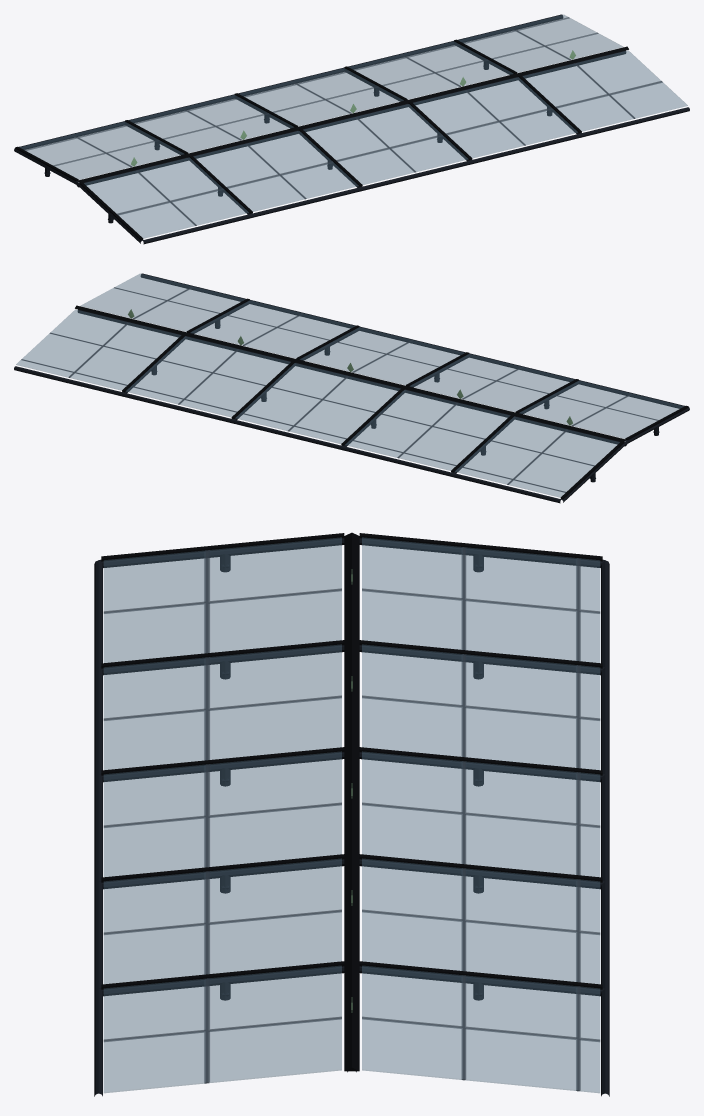
The picture shows the model from 3 angles, top to bottom: view 1: azimuth 30°, elevation 25°; view 2: azimuth 150°, elevation 25°; view 3: azimuth 270°, elevation 25°; orthographic projection. The views are drawn at different scales.
Parts seen in each view (by area): view 1: Crown_Glass_Panes, Crown_Frame, Crown_Glazing_Caps, Ridge_Cap; view 2: Crown_Glass_Panes, Crown_Frame, Crown_Glazing_Caps, Ridge_Cap; view 3: Crown_Glass_Panes, Crown_Frame, Crown_Glazing_Caps, Ridge_Cap.
Boxes of the visible parts, x1,y1,x2,y2 form: Crown_Glass_Panes: (20,15,687,238); Crown_Frame: (14,14,689,244); Crown_Glazing_Caps: (15,39,581,240); Ridge_Cap: (78,46,628,182); Crown_Glass_Panes: (16,274,683,497); Crown_Frame: (14,273,689,503); Crown_Glazing_Caps: (122,298,688,499); Ridge_Cap: (75,305,625,441); Crown_Glass_Panes: (103,537,600,1092); Crown_Frame: (94,538,609,1096); Crown_Glazing_Caps: (101,533,602,989); Ridge_Cap: (344,532,359,1071).
Bounding box in the file's own units: 20.08 × 1 × 8.14.
Materials: 4 (3 with a texture image).
